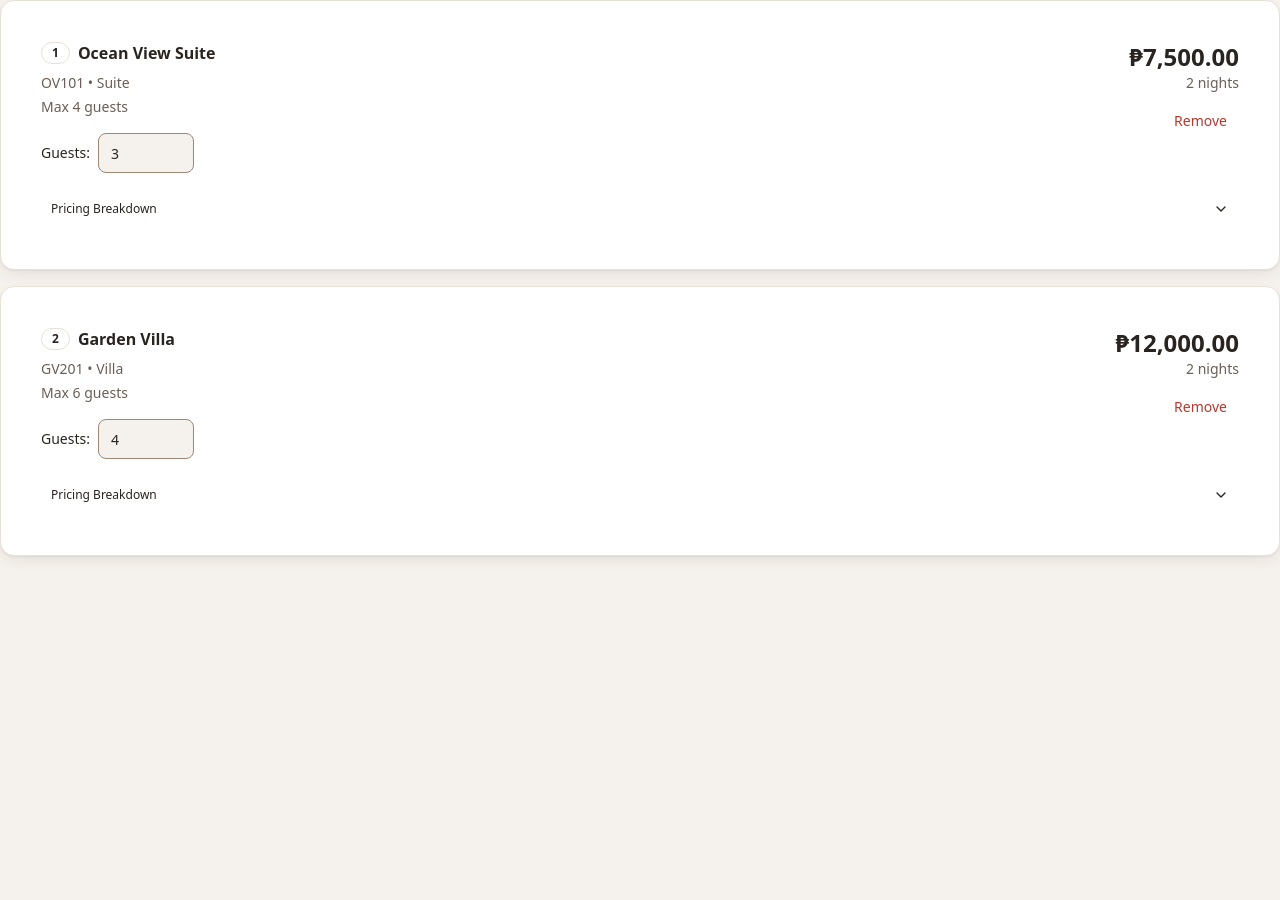
UnitCardList › Pricing Display › displays pricing breakdown when expanded
This screenshot has width=1280, height=900.
What coordinates should you click on to do the following:
click the button "Pricing Breakdown" below "OV101"
I would click on:
 (104, 208)
Its box is [41,189,1239,229].
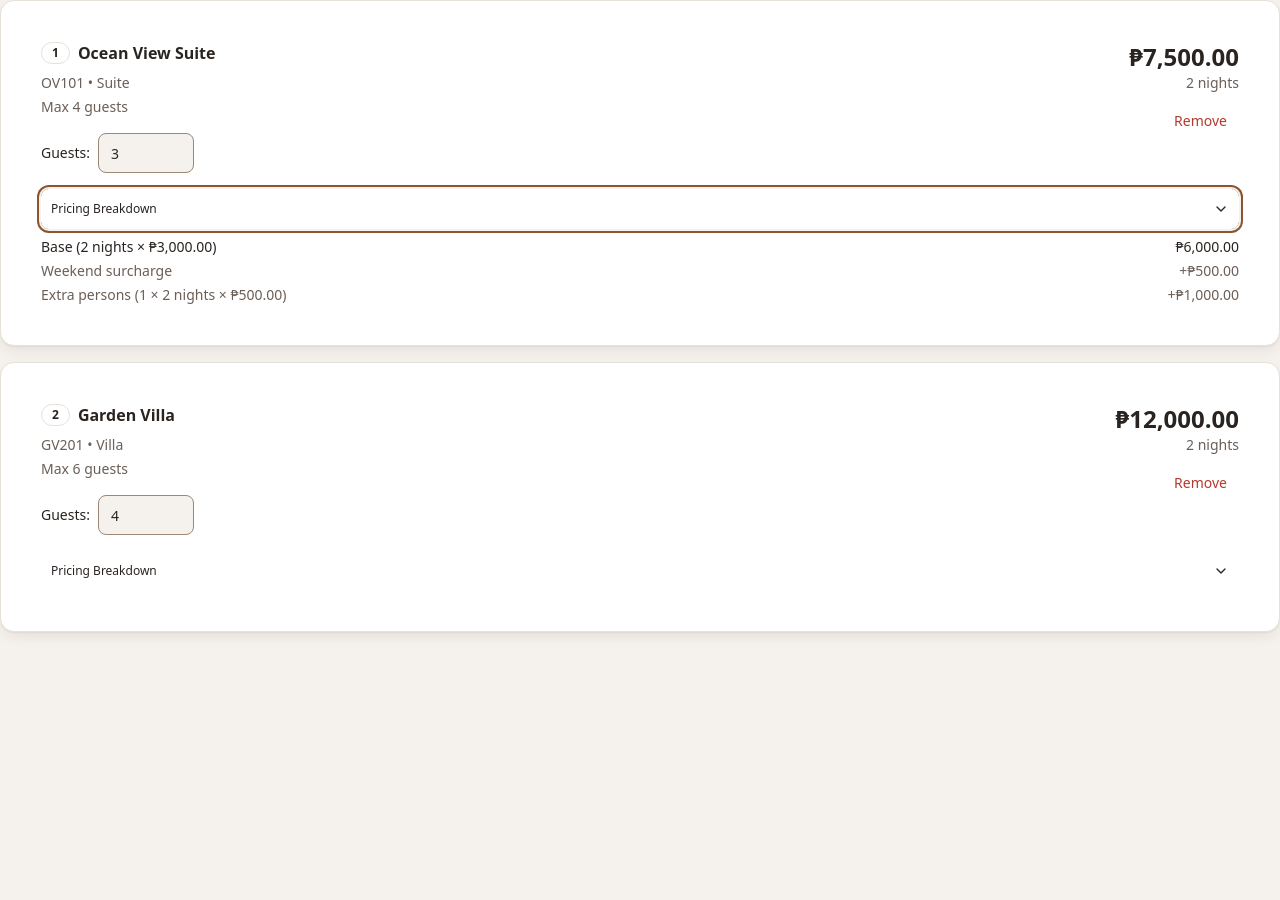
Now the text "Base (2 nights × ₱3,000.00)" is shown, box [41,237,216,257]
Now the text "Weekend surcharge" is shown, box [41,261,172,281]
Now the text "Extra persons (1 × 2 nights × ₱500.00)" is shown, box [41,285,286,305]
